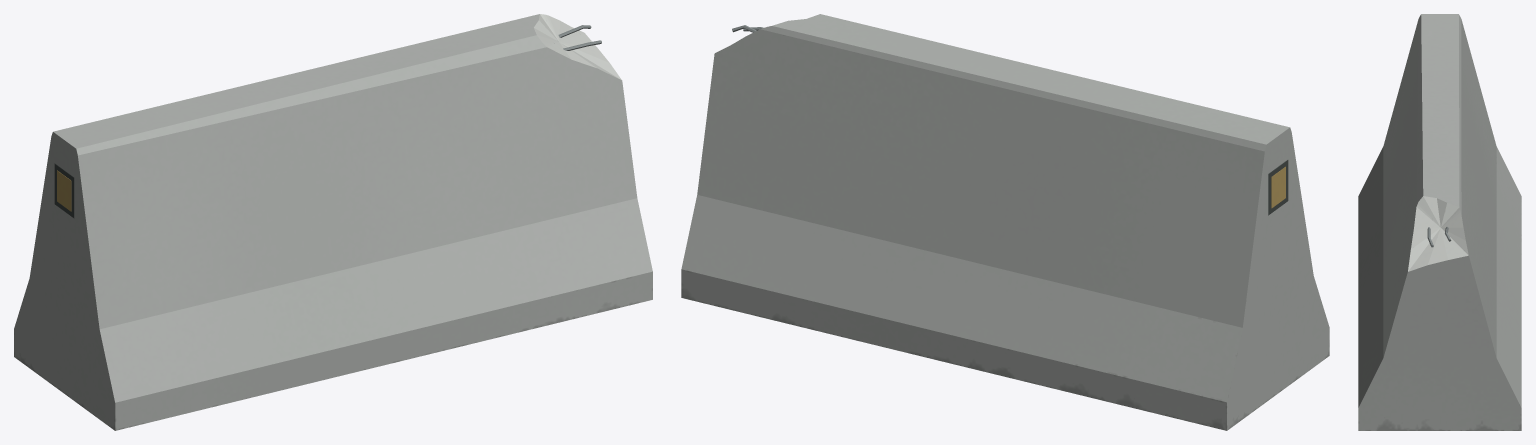
The model's file is jersey_barrier_damaged.glb.
3 renders of one model, left to right at view 1: azimuth 30°, elevation 25°; view 2: azimuth 150°, elevation 25°; view 3: azimuth 270°, elevation 25°, orthographic. The views are drawn at different scales.
Visible parts, largest first — view 1: JerseyBarrierDamaged; view 2: JerseyBarrierDamaged; view 3: JerseyBarrierDamaged.
Boxes of the visible parts, left/top/right/bottom form: JerseyBarrierDamaged: left=14, top=14, right=652, bottom=430; JerseyBarrierDamaged: left=681, top=14, right=1329, bottom=430; JerseyBarrierDamaged: left=1358, top=14, right=1521, bottom=430.
Size of what is drawn, in the model's own units: 2 by 0.9 by 0.65.
1 material, 1 textured.
